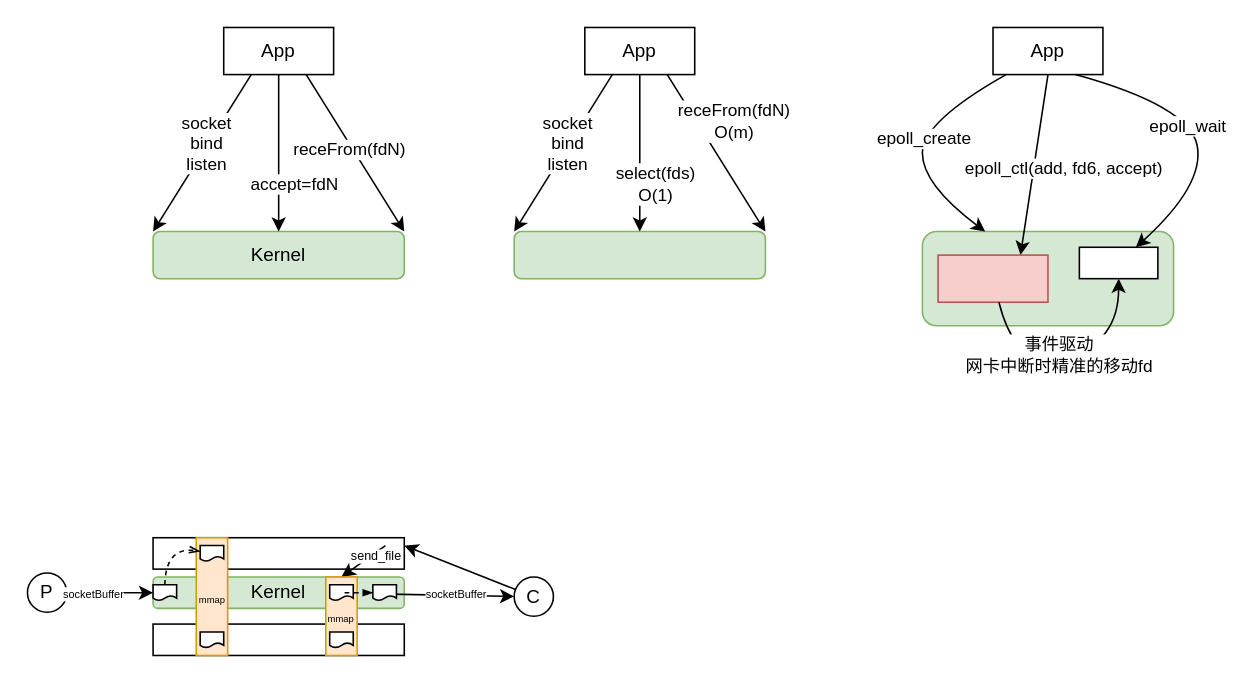
Some shapes in this 1253 by 683 pixel diagram are drawn without their labels. Each missing label, with the box of its shape:
Disk: (152, 623, 404, 655)
fd6: (1078, 246, 1158, 279)
fd6 accept fd7 w/r: (937, 254, 1048, 302)
Kafka: (152, 536, 404, 569)
Kernel 主动监听(O(n)): (513, 230, 765, 279)
